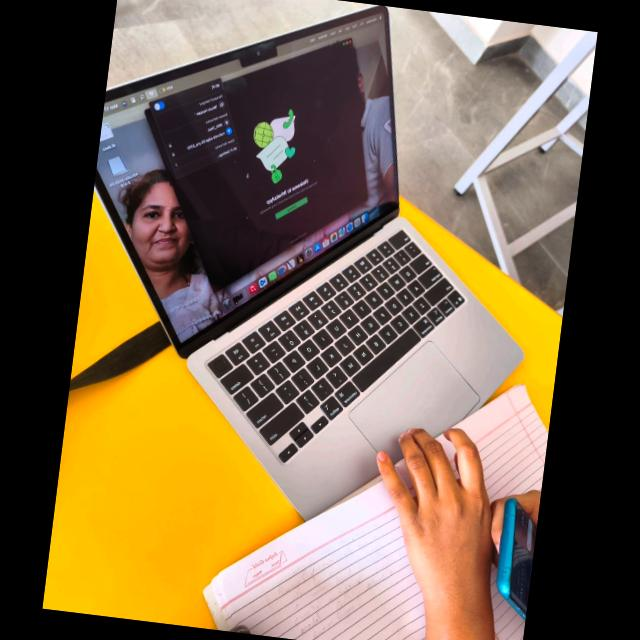laptop: (60, 0, 571, 517)
